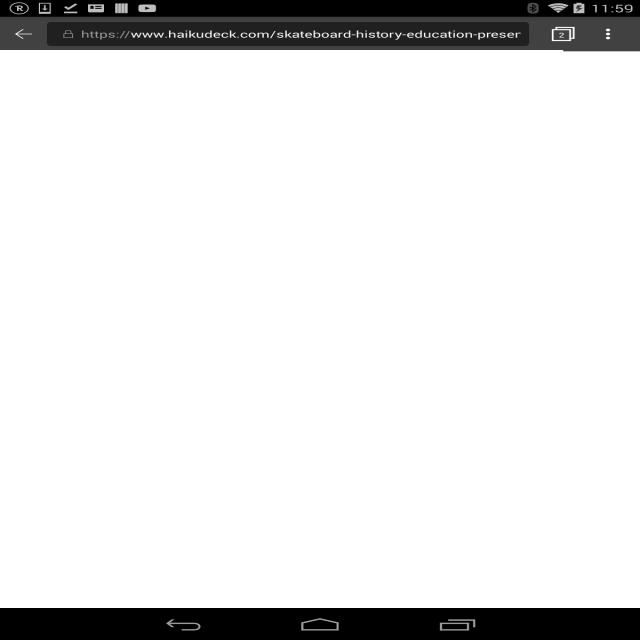Button: (0, 17, 47, 51)
EditText: (81, 22, 521, 46)
ImageView: (589, 18, 631, 50)
ProgressBar: (0, 50, 640, 51)
TextView: (538, 18, 588, 50), (0, 17, 47, 51), (56, 22, 81, 46)
